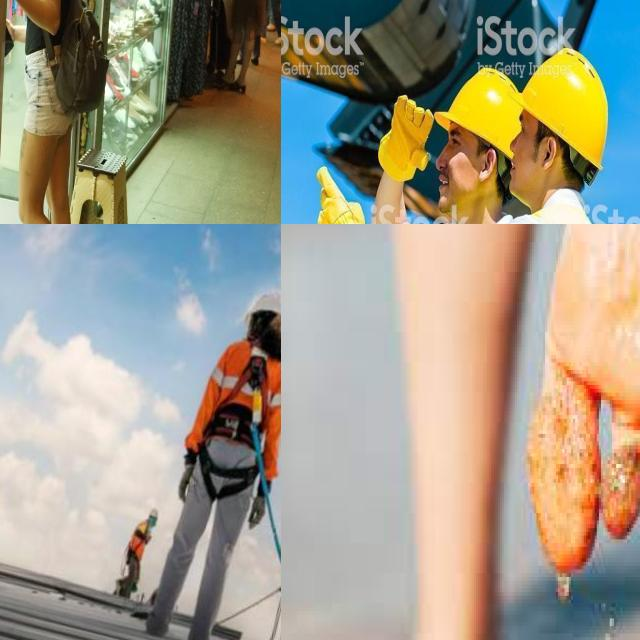Harness: (207, 355, 268, 448)
No_Ear-Protection: (479, 146, 497, 184), (541, 134, 557, 171)
No_Glasses: (441, 123, 470, 163), (511, 106, 535, 153)
Sandals: (530, 224, 640, 577)
face_nomask: (436, 123, 486, 218), (510, 111, 557, 205)
hand_glove: (378, 92, 430, 182), (316, 161, 375, 224)
head_helmet: (508, 36, 614, 172), (434, 70, 523, 146)
person: (479, 44, 623, 224), (414, 51, 510, 224)
